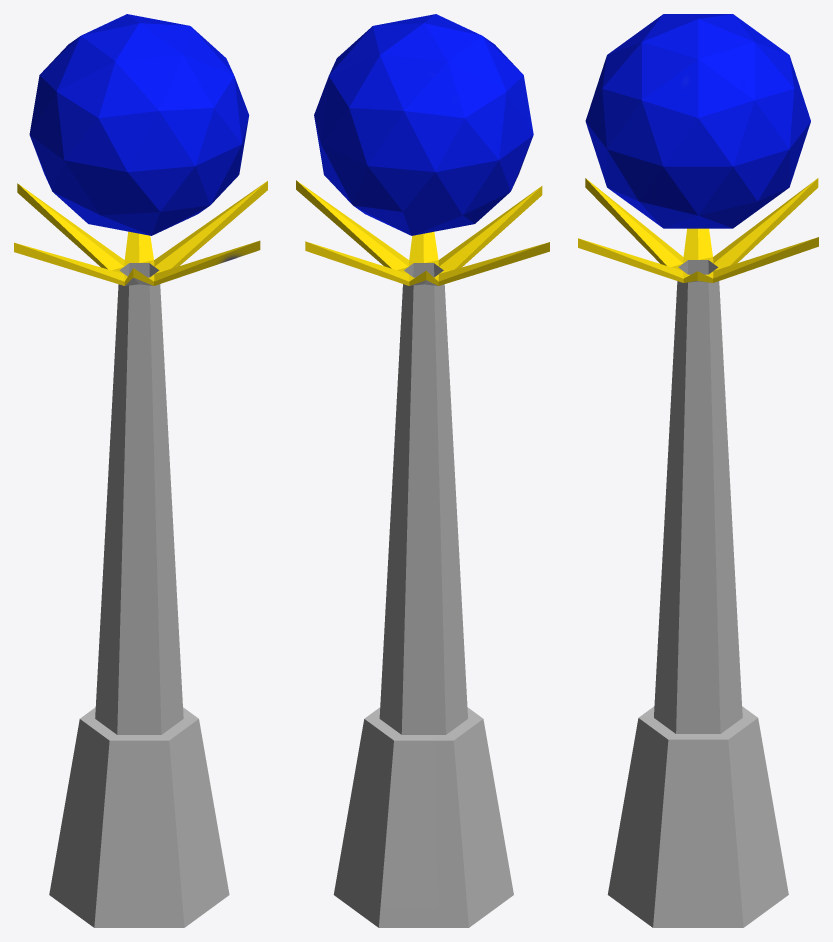
The model's file is Lampara.obj.
3 views of the same model, side by side, from view 1: azimuth 30°, elevation 25°; view 2: azimuth 150°, elevation 25°; view 3: azimuth 270°, elevation 25° (orthographic).
Visible parts, largest first — view 1: Circle; view 2: Circle; view 3: Circle.
Boxes of the visible parts, left/top/right/bottom form: Circle: left=14, top=14, right=267, bottom=927; Circle: left=296, top=14, right=549, bottom=927; Circle: left=578, top=14, right=818, bottom=927.
Bounding box in the file's own units: 4.26 × 13.97 × 3.48.
Materials: 1 (1 with a texture image).
